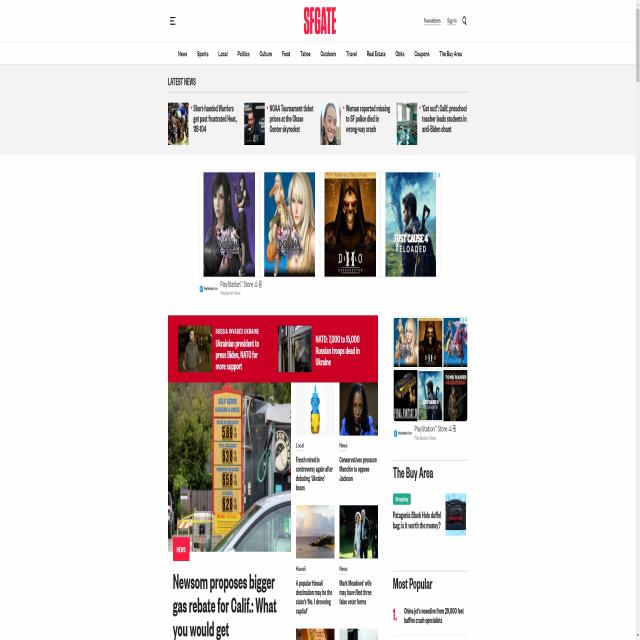menu-bar: (421, 11, 471, 38)
side-panel: (389, 307, 471, 640)
tab-bar: (174, 42, 466, 61)
